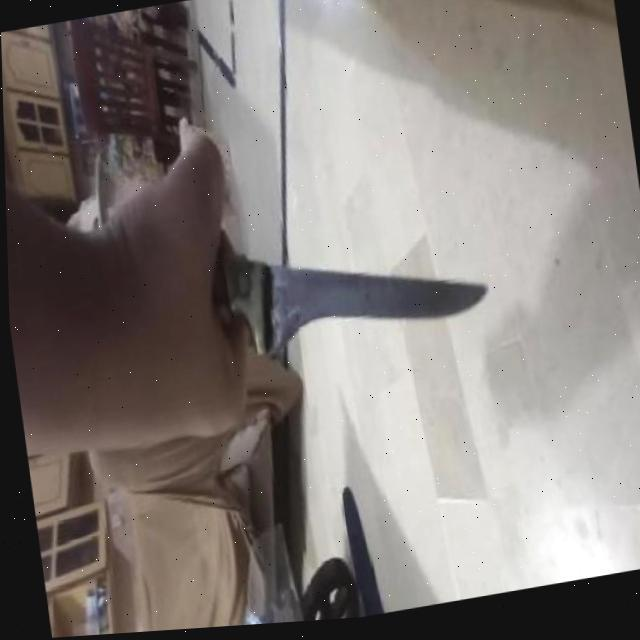knife: (208, 217, 486, 364)
